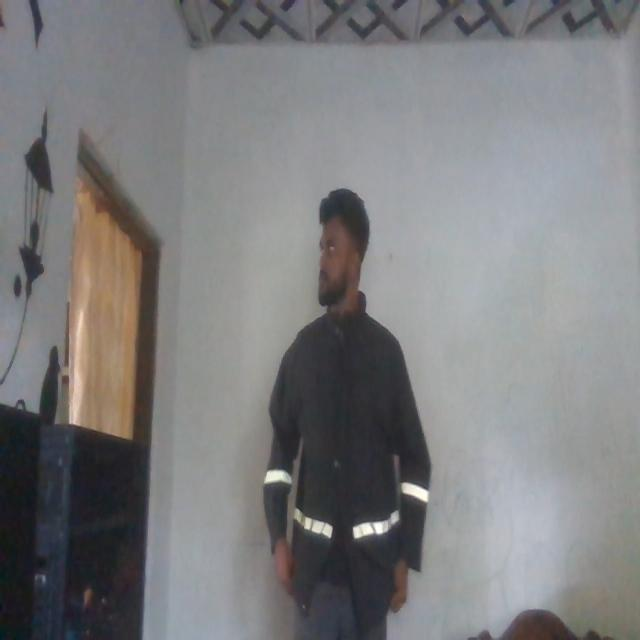Jacket_Wearer: (255, 306, 429, 599)
Person: (256, 188, 430, 640)
